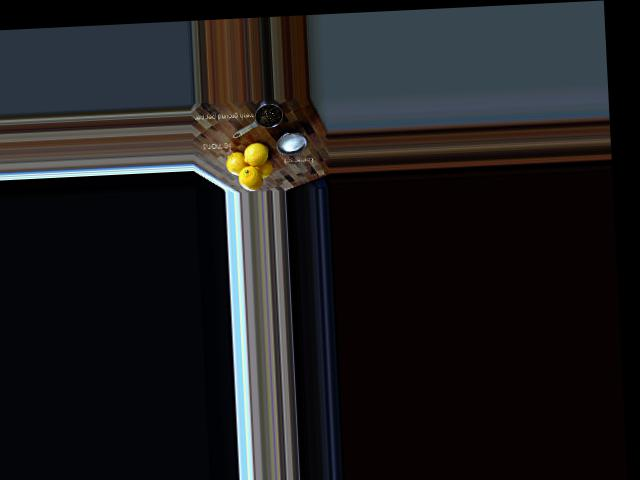lemon: (255, 158, 276, 177)
